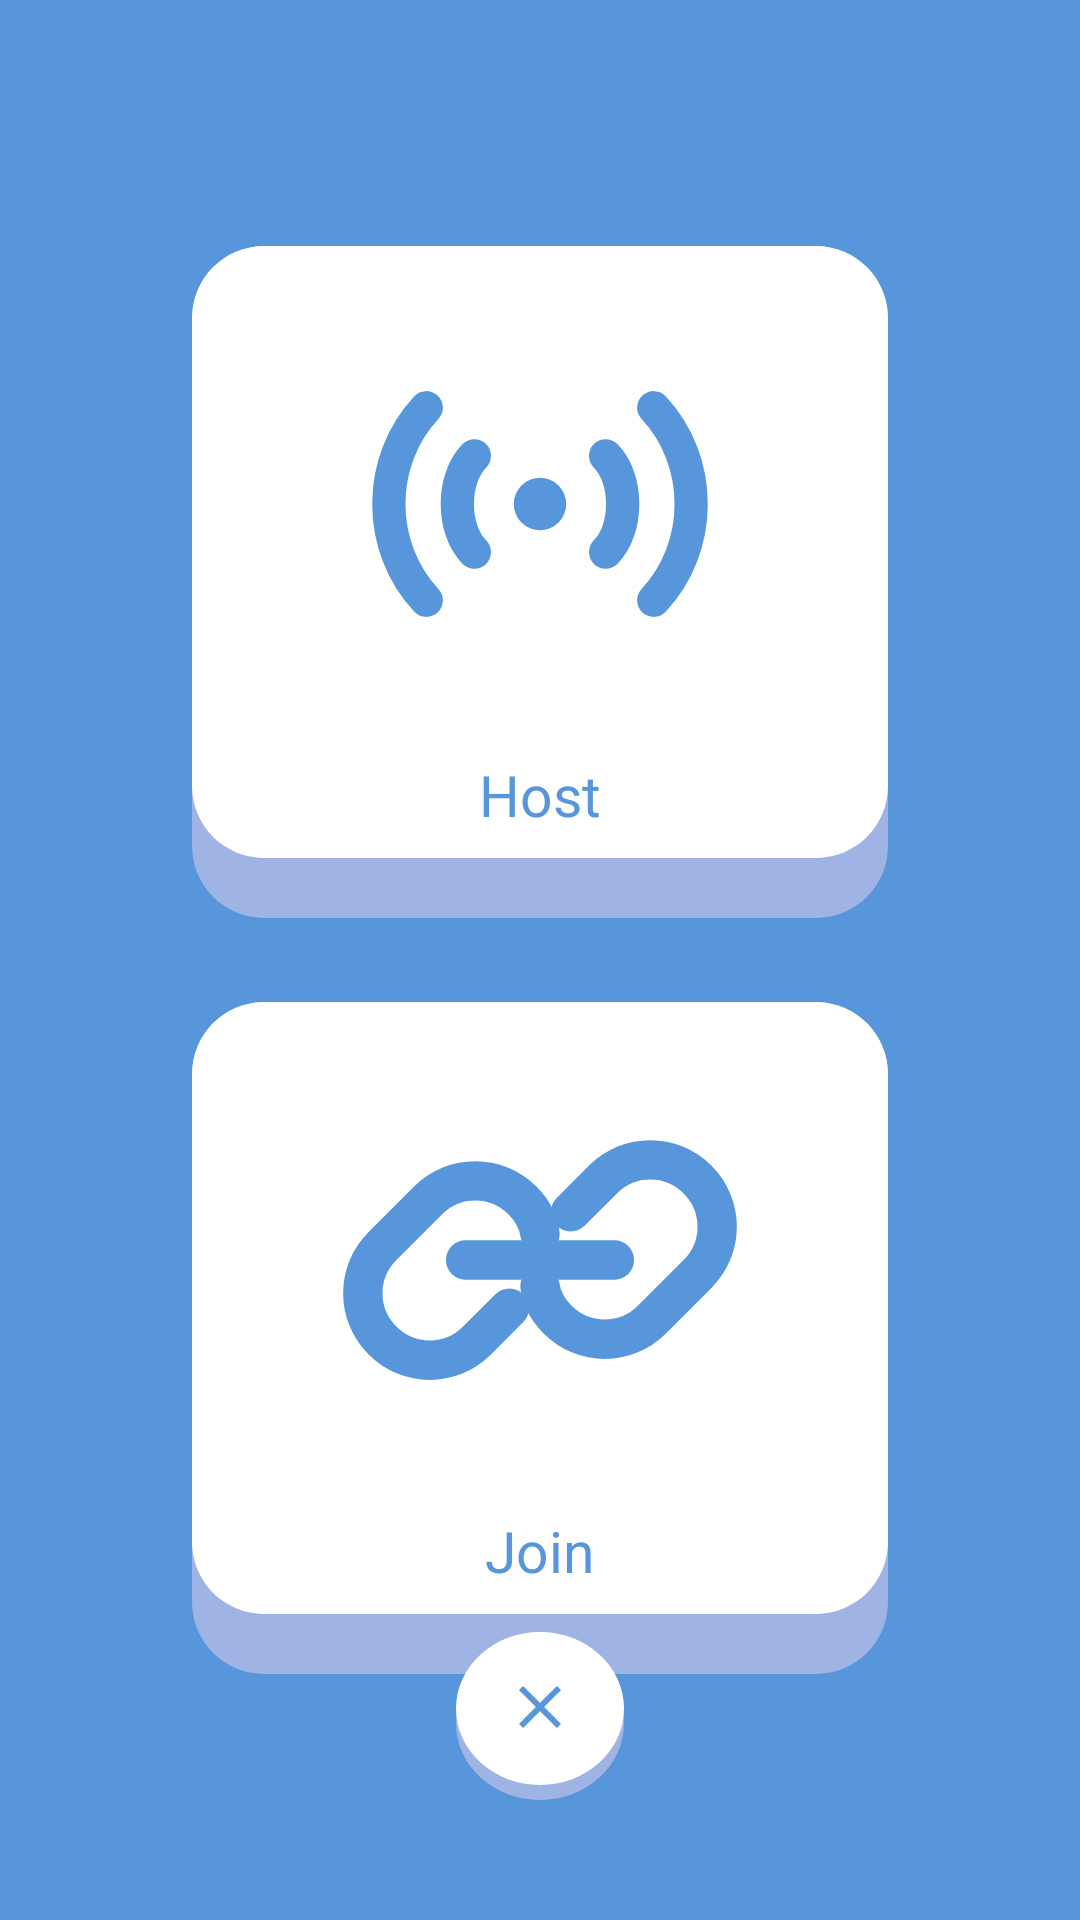

Named icons in this screenshot (1080 x 1920) and their centers, (x,y):
Exit Dual Device: (540,1716)
